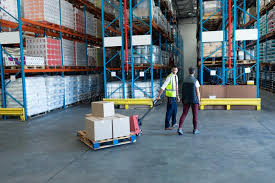Pallet Jack: (75, 98, 164, 151)
